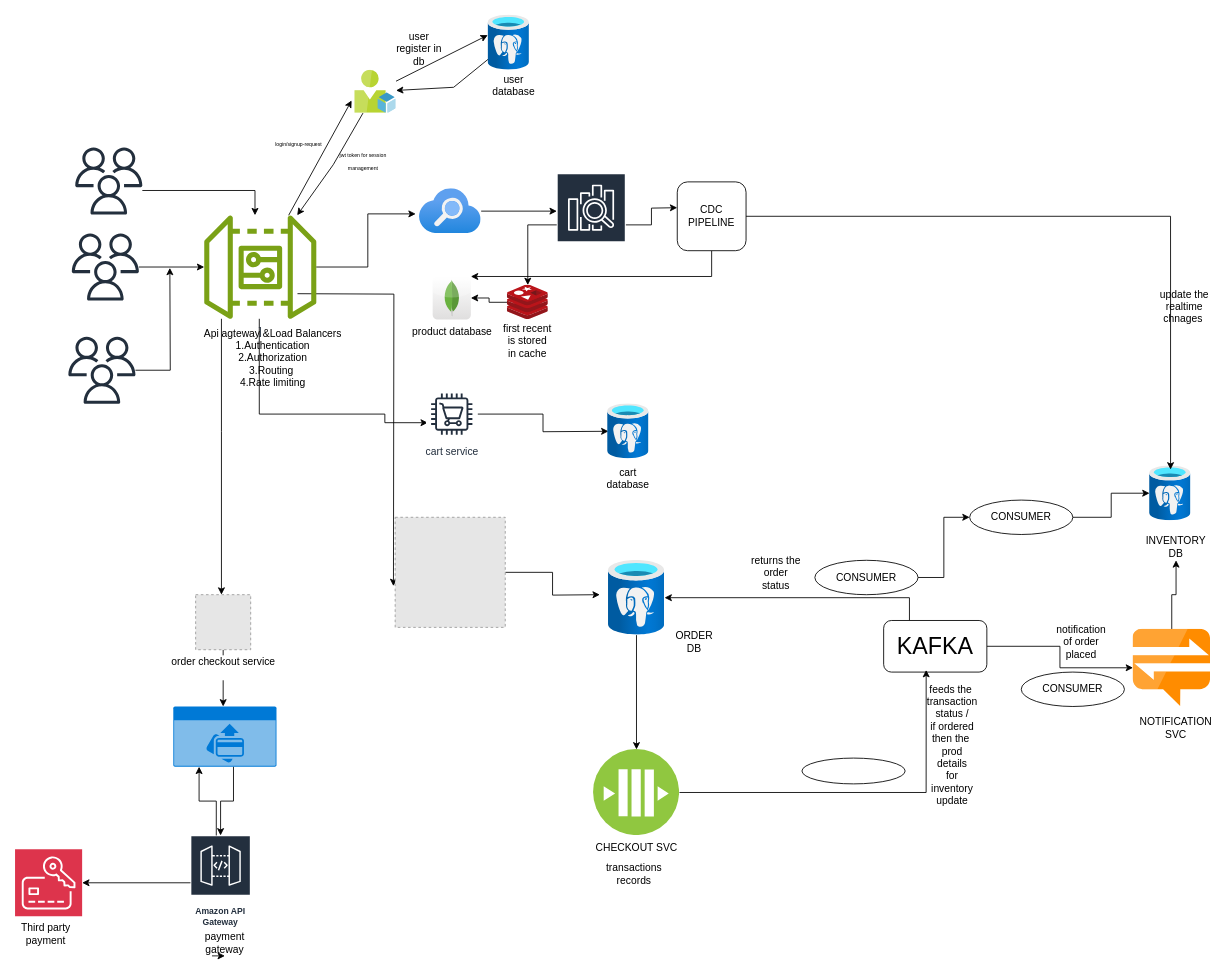
Some shapes in this 1227 by 978 pixel diagram are drawn without their labels. Grey dashed boxes stand in for pictures. The shapes that lost their labels are listed below. From the top down, each one's centre as x and y in pixels, then its label:
At point (375, 91): "user service".
At point (450, 210): "search service".
At point (591, 224): "Amazon Elasticsearch Service".
At point (224, 736): "Payment".
At point (853, 770): "PRODUCER".
